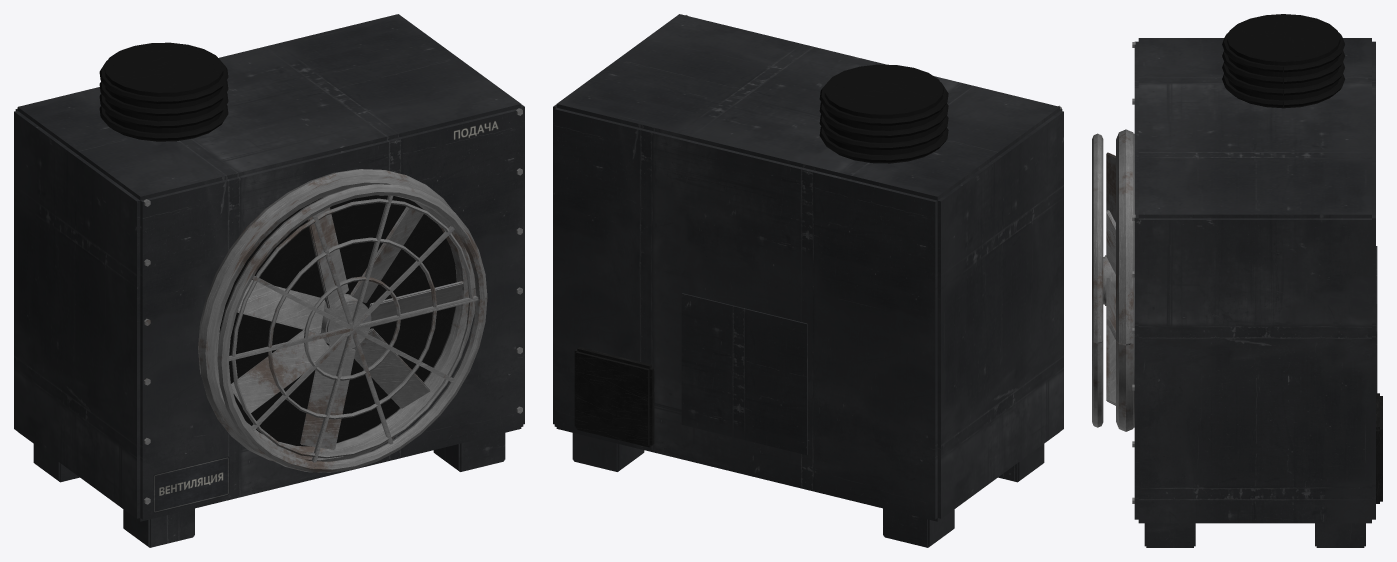
File: ventilation_unit.gltf
The picture shows the model from 3 angles, left to right: view 1: azimuth 30°, elevation 25°; view 2: azimuth 150°, elevation 25°; view 3: azimuth 270°, elevation 25°; orthographic projection. The views are drawn at different scales.
Parts seen in each view (by area): view 1: Body, Fan; view 2: Body; view 3: Body, Fan.
Part boxes in pixels (x1,y1,x2,y2): Body: (14,14,524,547); Fan: (231,207,463,449); Body: (553,14,1063,547); Body: (1092,14,1382,547); Fan: (1103,152,1115,405).
Size of the model in its own units: 1.5 by 1.5 by 1.03.
Materials: 6 (6 with a texture image).
